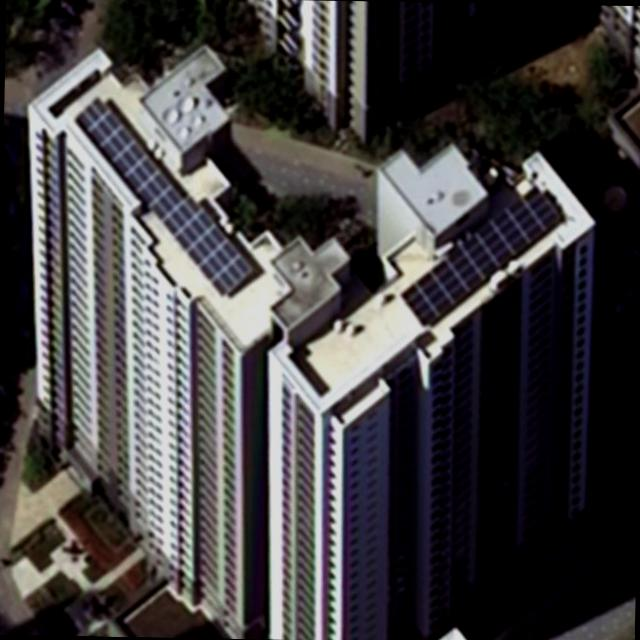solar: (70, 93, 262, 297), (398, 182, 564, 332)
